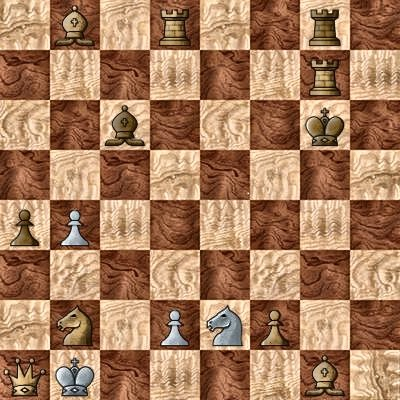black-bishop: (50, 0, 100, 50), (100, 100, 150, 150), (300, 350, 350, 400)
black-king: (300, 100, 350, 150)
black-knight: (50, 300, 100, 350)
black-pawn: (0, 200, 50, 250), (250, 300, 300, 350)
black-queen: (0, 350, 50, 400)
black-rook: (150, 0, 200, 50), (300, 0, 350, 50), (300, 50, 350, 100)
white-king: (50, 350, 100, 400)
white-knight: (200, 300, 250, 350)
white-pawn: (50, 200, 100, 250), (150, 300, 200, 350)
